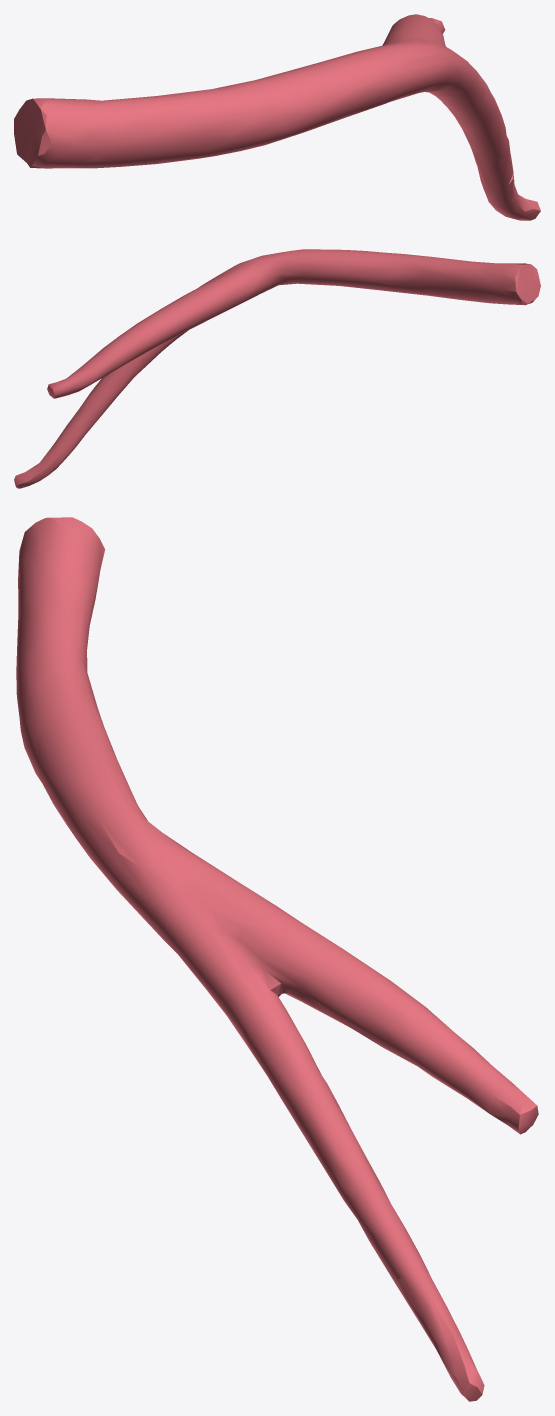
The model's file is fma3888_mm423.glb.
The picture shows the model from 3 angles, top to bottom: view 1: azimuth 30°, elevation 25°; view 2: azimuth 150°, elevation 25°; view 3: azimuth 270°, elevation 25°; orthographic projection. The views are drawn at different scales.
Visible parts, largest first — view 1: FMA3888_MM423; view 2: FMA3888_MM423; view 3: FMA3888_MM423.
Boxes of the visible parts, bbox=[...] form: FMA3888_MM423: bbox=[14, 14, 540, 220]; FMA3888_MM423: bbox=[14, 249, 540, 488]; FMA3888_MM423: bbox=[16, 517, 538, 1401].
Bounding box in the file's own units: 0.0283 × 0.0159 × 0.0154.
